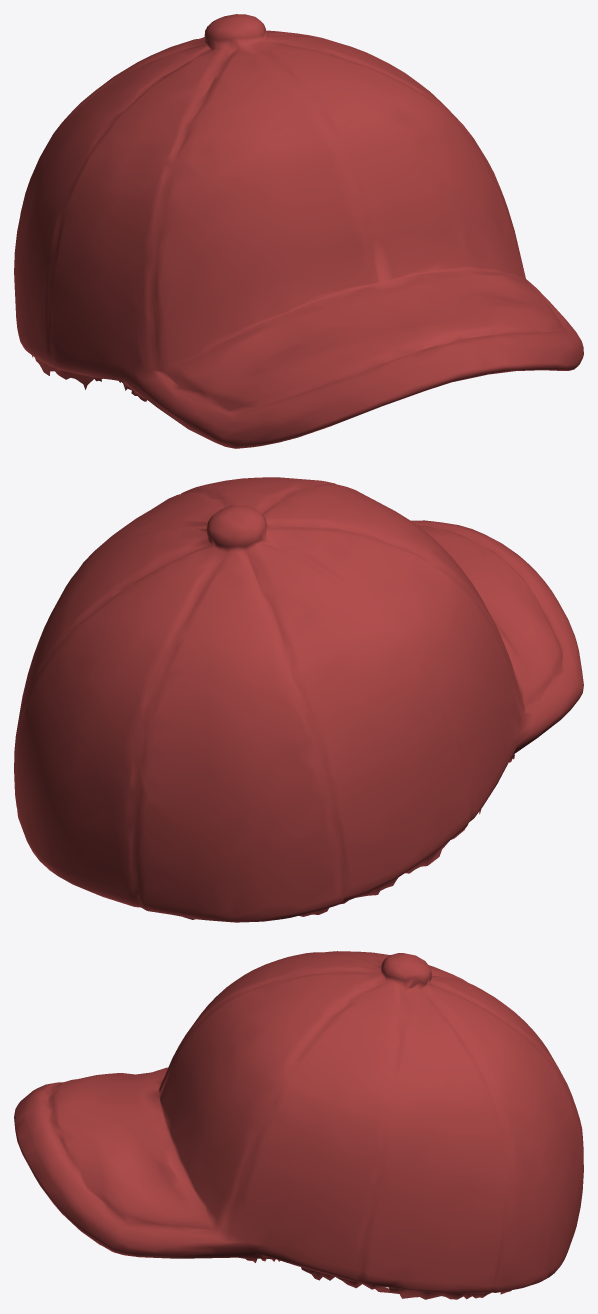
The model's file is hat_cap.glb.
3 renders of one model, top to bottom at view 1: azimuth 30°, elevation 25°; view 2: azimuth 150°, elevation 25°; view 3: azimuth 270°, elevation 25°, orthographic. The views are drawn at different scales.
Visible parts, largest first — view 1: hat; view 2: hat; view 3: hat.
Boxes of the visible parts, box(x1,y1,x2,y2) form: hat: box(14, 14, 583, 448); hat: box(14, 477, 583, 922); hat: box(14, 951, 583, 1299).
Bounding box in the file's own units: 0.7067 × 0.5399 × 0.9611.
